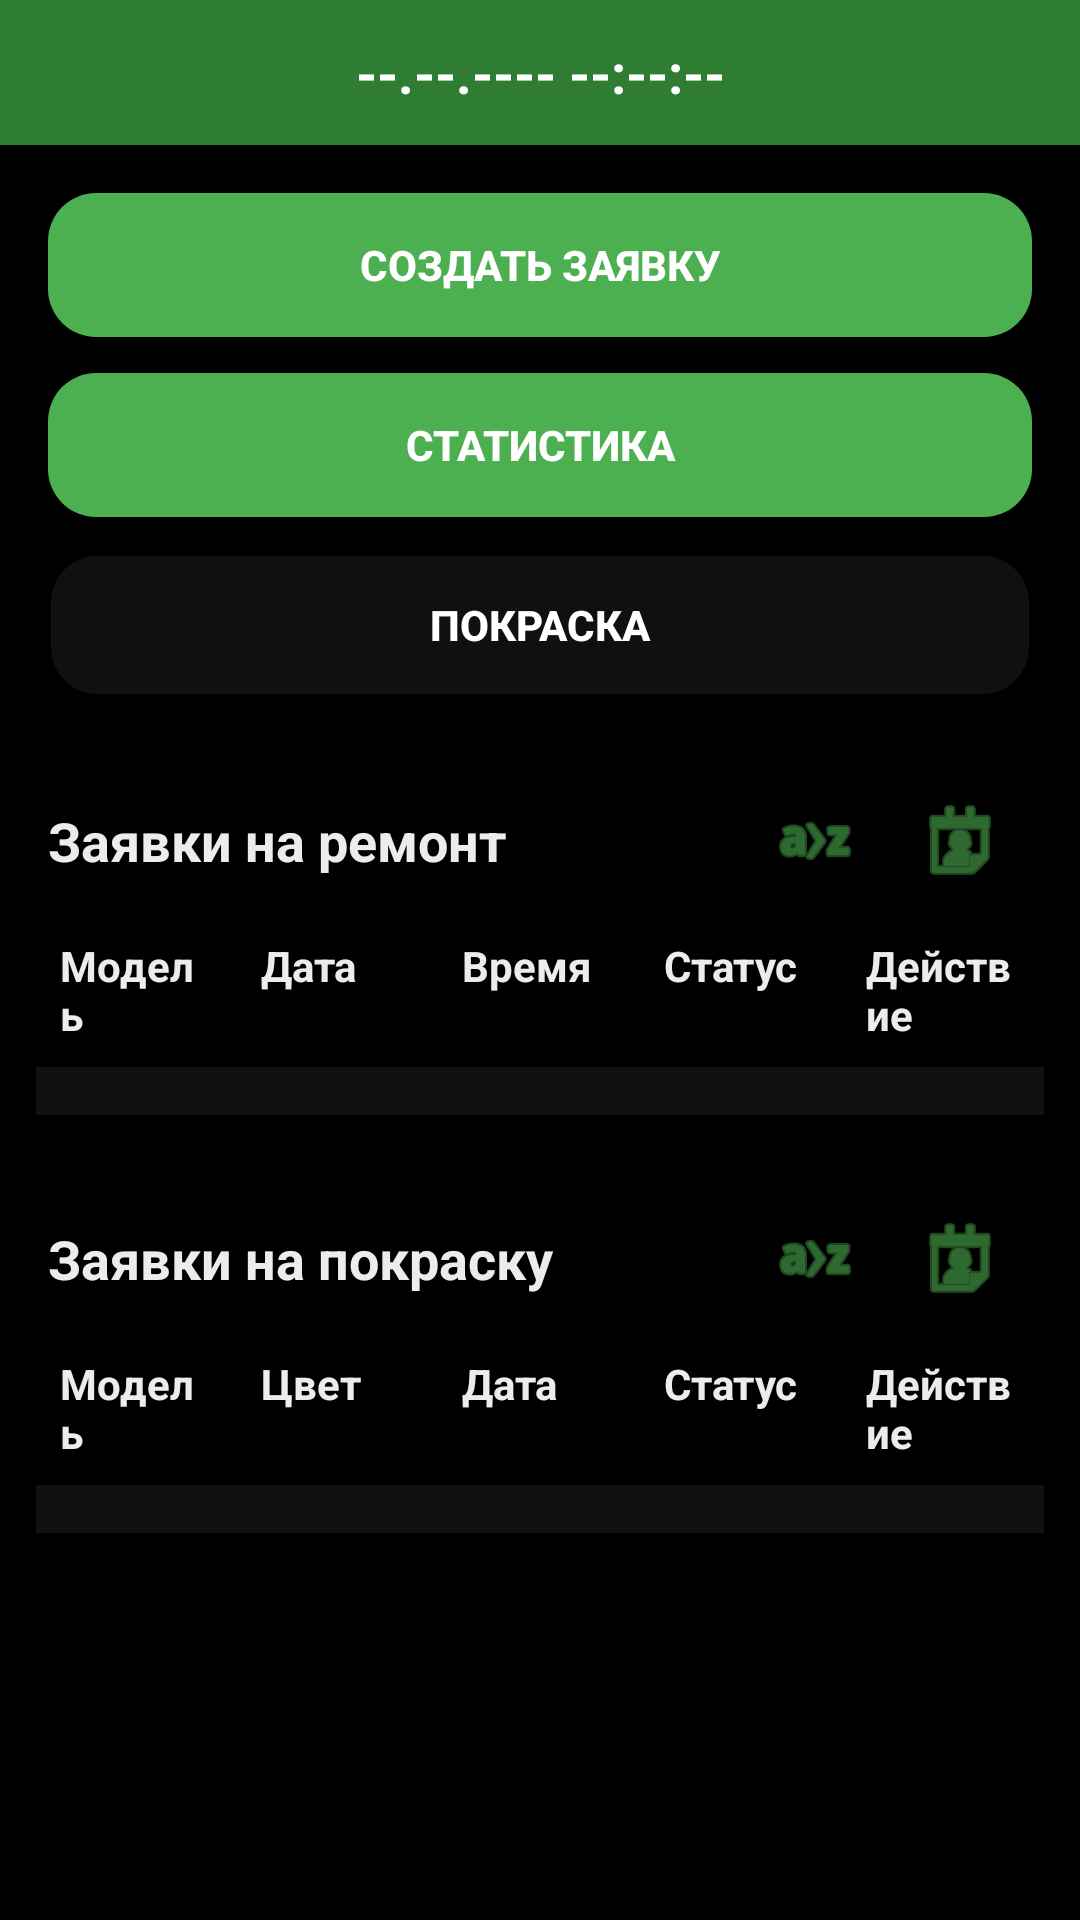

Where icons sit on this 1080 x 1920 app screen, as (x1,y1,x2,y2):
Сортировать покраску по алфавиту: (779,1240,851,1278)
Сортировать покраску по дате: (929,1223,991,1293)
Сортировать ремонт по алфавиту: (779,822,851,860)
Сортировать ремонт по дате: (929,805,991,875)
